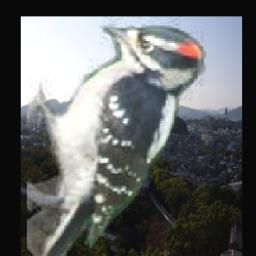Woodpecker: (27, 17, 207, 256)
